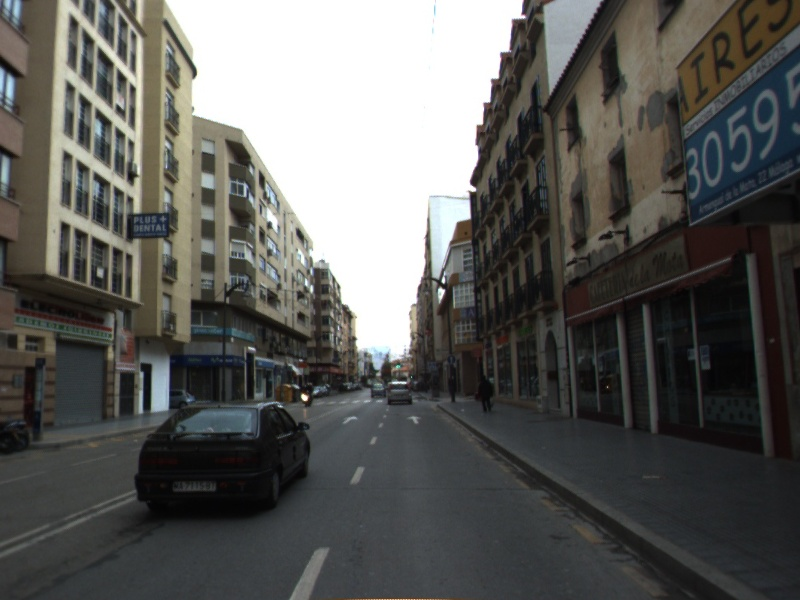STRAIGHT: (405, 413, 424, 426), (340, 414, 359, 426)
